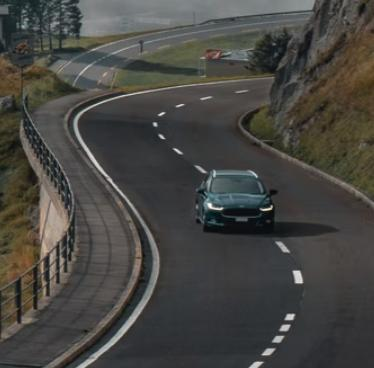car: (178, 145, 293, 255)
